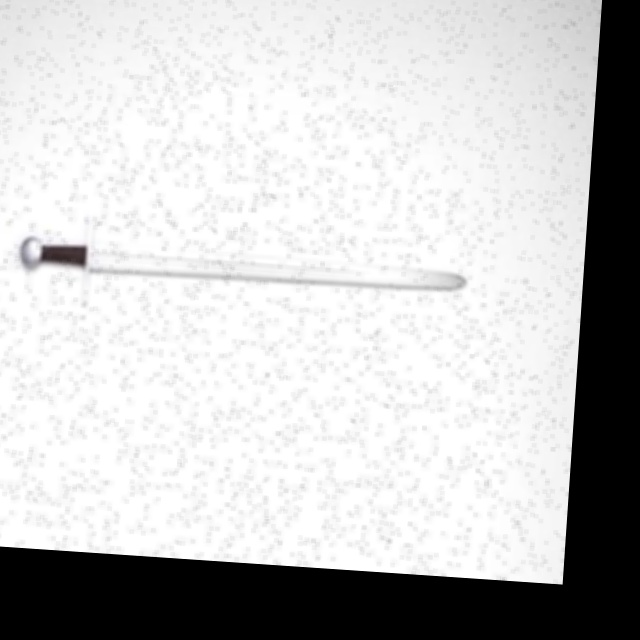Sharp-Object: (15, 233, 470, 299)
